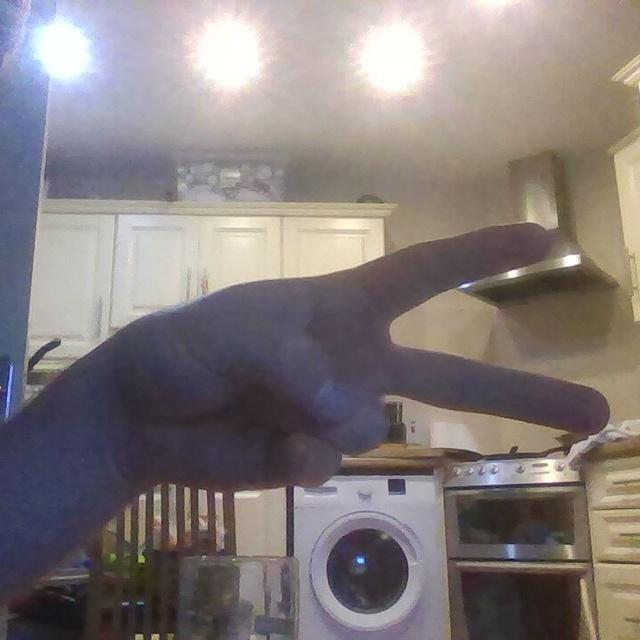scissors: (124, 219, 612, 485)
